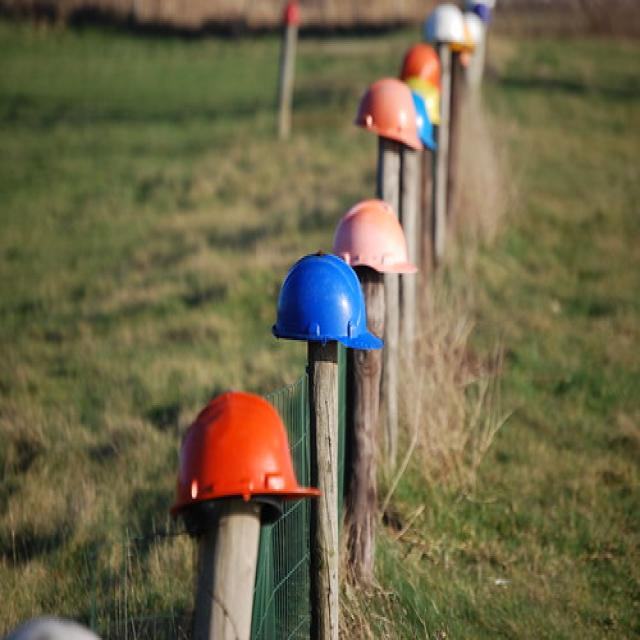Safety-Helmet: (160, 378, 316, 524), (269, 246, 385, 352), (326, 191, 420, 279), (356, 76, 423, 180), (425, 6, 472, 58)
